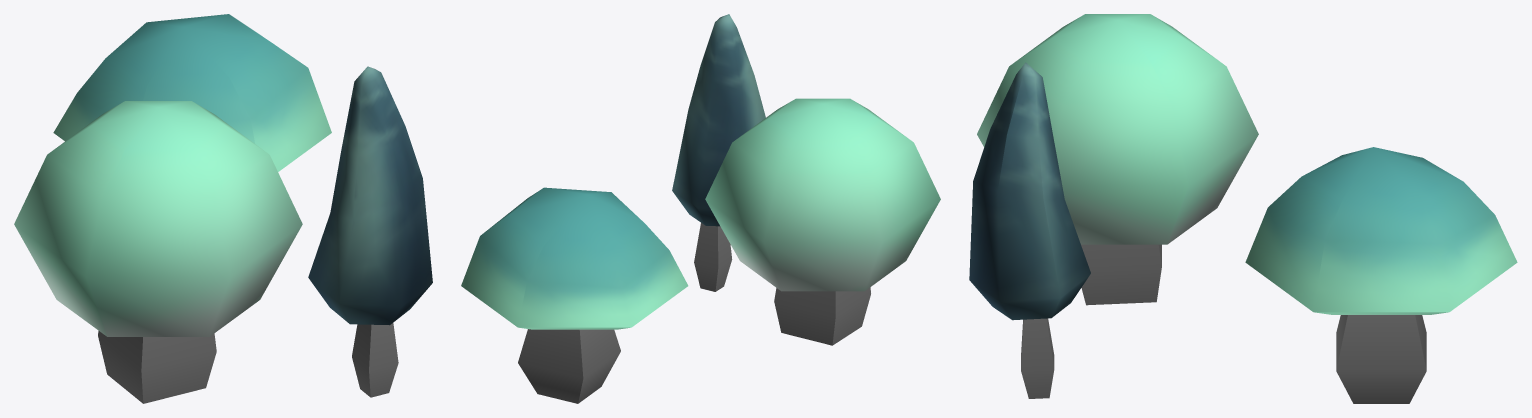
The model's file is HexCave_Mushroom_001.fbx.
3 views of the same model, side by side, from view 1: azimuth 30°, elevation 25°; view 2: azimuth 150°, elevation 25°; view 3: azimuth 270°, elevation 25° (orthographic). The views are drawn at different scales.
Parts seen in each view (by area): view 1: HexCave_Mushroom.001; view 2: HexCave_Mushroom.001; view 3: HexCave_Mushroom.001.
Boxes of the visible parts, x1,y1,x2,y2 form: HexCave_Mushroom.001: [14, 14, 432, 403]; HexCave_Mushroom.001: [461, 14, 940, 403]; HexCave_Mushroom.001: [969, 14, 1517, 403].
Bounding box in the file's own units: 129 × 108 × 164.
